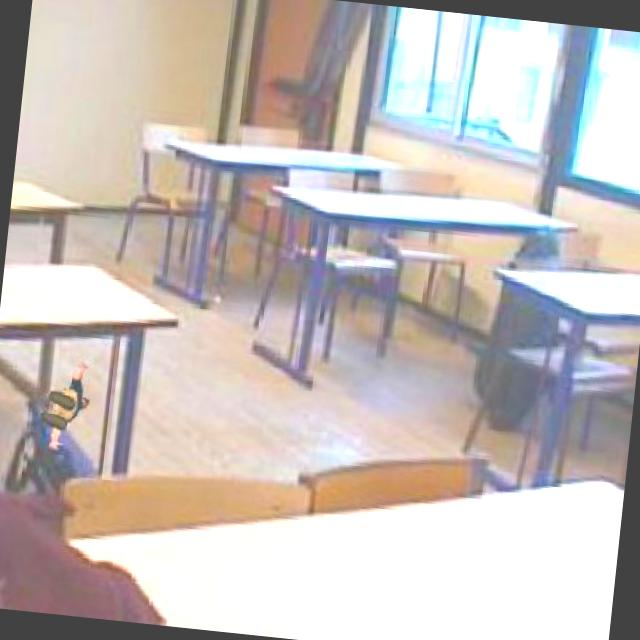Person: (34, 356, 96, 458)
